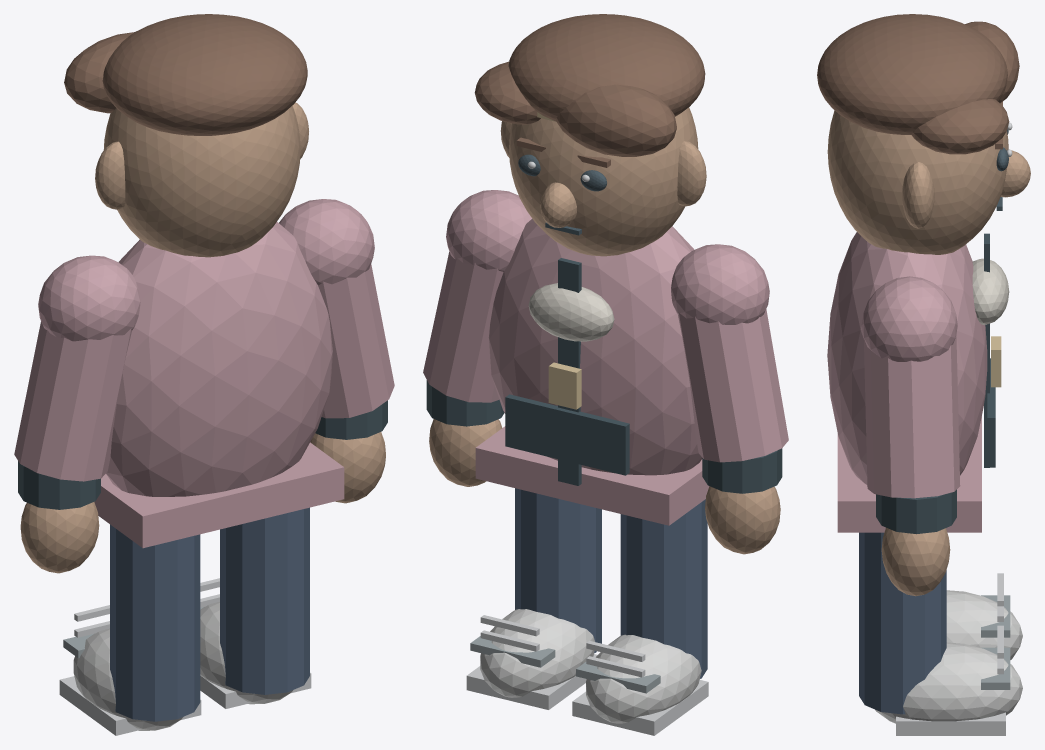
The model's file is student_bucket_d.glb.
3 views of the same model, side by side, from view 1: azimuth 30°, elevation 25°; view 2: azimuth 150°, elevation 25°; view 3: azimuth 270°, elevation 25° (orthographic). The views are drawn at different scales.
Visible parts, largest first — view 1: StudentPart_pink, StudentPart_denim2, StudentPart_skin5, StudentPart_hair2, StudentPart_sneaker, StudentPart_dark, StudentPart_white; view 2: StudentPart_pink, StudentPart_skin5, StudentPart_hair2, StudentPart_denim2, StudentPart_dark, StudentPart_sneaker, StudentPart_white, StudentPart_cream, StudentPart_grey, StudentPart_gold, StudentPart_ink; view 3: StudentPart_pink, StudentPart_hair2, StudentPart_skin5, StudentPart_denim2, StudentPart_sneaker, StudentPart_dark, StudentPart_white, StudentPart_cream, StudentPart_grey, StudentPart_gold.
Boxes of the visible parts, x1=… form: StudentPart_pink: x1=14, y1=199, x2=394, y2=548; StudentPart_denim2: x1=110, y1=507, x2=309, y2=721; StudentPart_skin5: x1=20, y1=102, x2=385, y2=573; StudentPart_hair2: x1=64, y1=14, x2=307, y2=135; StudentPart_sneaker: x1=73, y1=602, x2=292, y2=730; StudentPart_dark: x1=18, y1=400, x2=387, y2=509; StudentPart_white: x1=59, y1=578, x2=311, y2=735; StudentPart_pink: x1=423, y1=190, x2=788, y2=525; StudentPart_skin5: x1=429, y1=107, x2=780, y2=554; StudentPart_hair2: x1=474, y1=14, x2=705, y2=167; StudentPart_denim2: x1=515, y1=488, x2=707, y2=678; StudentPart_dark: x1=426, y1=258, x2=782, y2=493; StudentPart_sneaker: x1=480, y1=609, x2=701, y2=723; StudentPart_white: x1=466, y1=161, x2=708, y2=735; StudentPart_cream: x1=528, y1=283, x2=614, y2=341; StudentPart_grey: x1=470, y1=636, x2=660, y2=693; StudentPart_gold: x1=537, y1=112, x2=581, y2=409; StudentPart_ink: x1=518, y1=154, x2=606, y2=235; StudentPart_pink: x1=827, y1=232, x2=987, y2=532; StudentPart_hair2: x1=817, y1=14, x2=1019, y2=154; StudentPart_skin5: x1=827, y1=110, x2=1030, y2=596; StudentPart_denim2: x1=859, y1=532, x2=946, y2=714; StudentPart_sneaker: x1=875, y1=590, x2=1022, y2=723; StudentPart_dark: x1=876, y1=233, x2=995, y2=534; StudentPart_white: x1=896, y1=122, x2=1012, y2=735; StudentPart_cream: x1=972, y1=258, x2=1009, y2=324; StudentPart_grey: x1=981, y1=595, x2=1010, y2=689; StudentPart_gold: x1=991, y1=336, x2=1001, y2=387.
Bounding box in the file's own units: 1.2 × 2.16 × 0.623.
